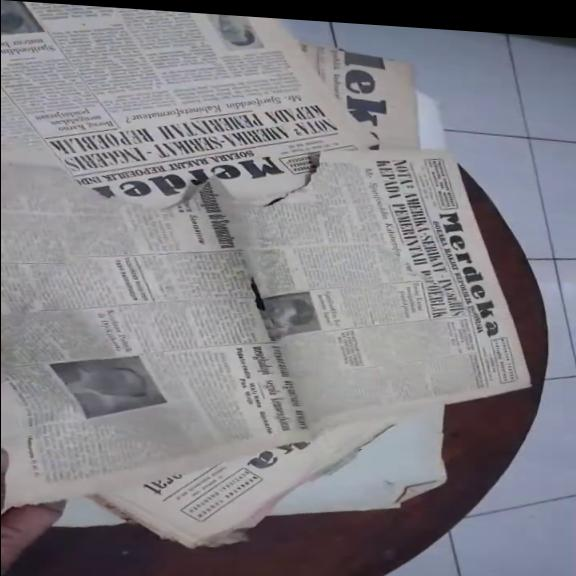Kertas: (5, 126, 534, 536), (4, 3, 371, 224), (232, 150, 421, 311)
